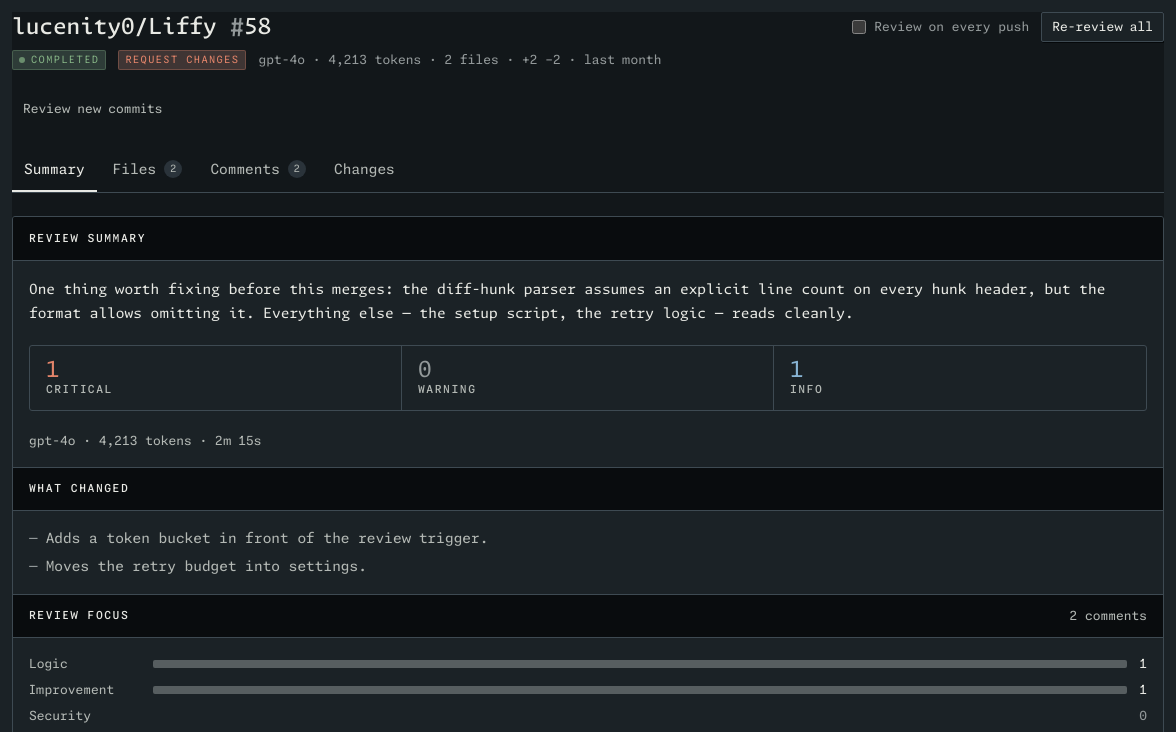
Scenario: ReviewDetail — re-review › reports a failed re-review on the page
Expected: the text "One thing worth fixing before this merges: the diff-hunk parser assumes an explicit line count on every hunk header, but" is shown, x1=29 y1=281 x2=1105 y2=321
Click the button "Re-review all" at point(1103, 27), box x1=1041 y1=12 x2=1164 y2=42
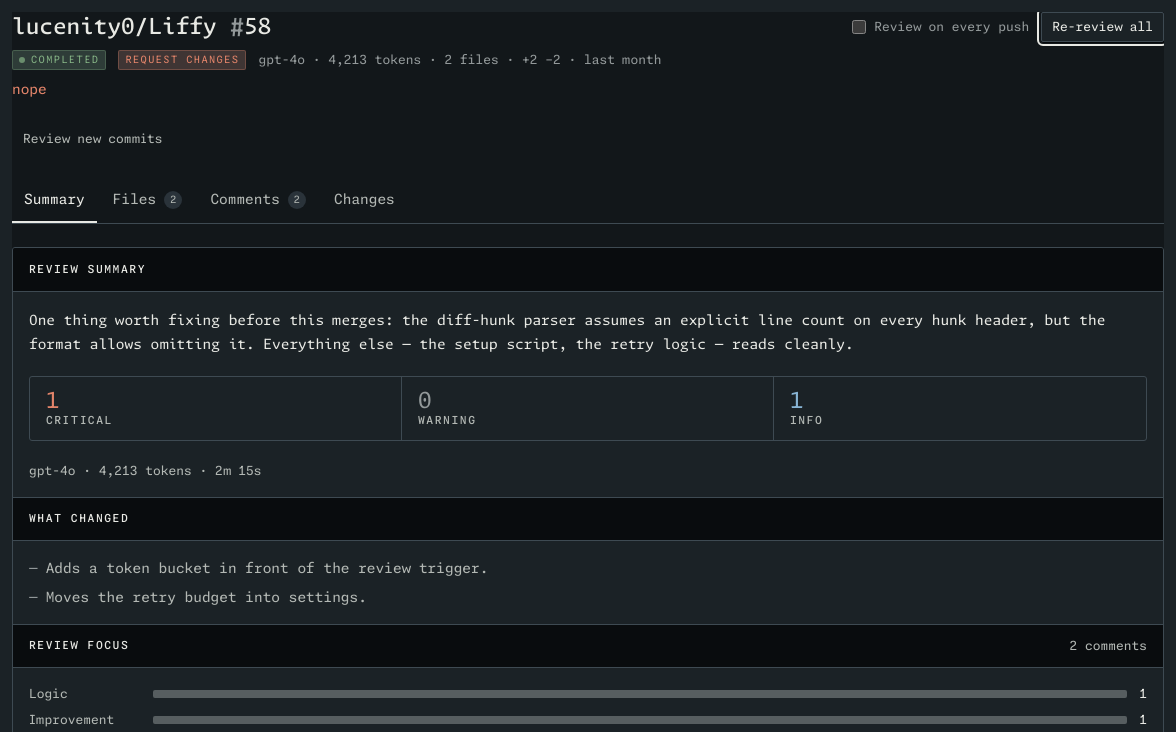
Now the text "nope" is shown, box x1=12 y1=81 x2=47 y2=97
